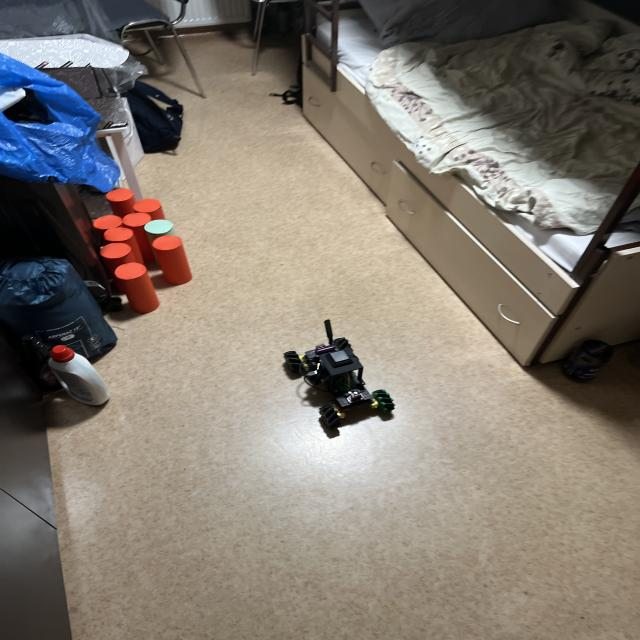robot: (284, 320, 394, 428)
